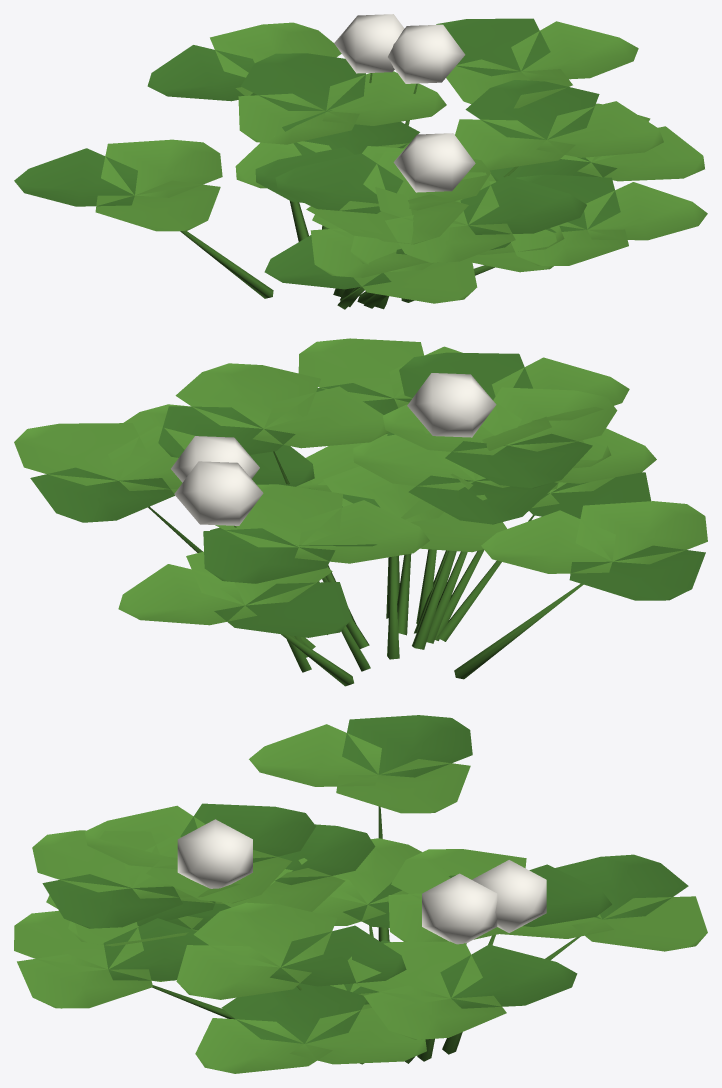
The model's file is grass-clover-b.glb.
The picture shows the model from 3 angles, top to bottom: view 1: azimuth 30°, elevation 25°; view 2: azimuth 150°, elevation 25°; view 3: azimuth 270°, elevation 25°; orthographic projection. The views are drawn at different scales.
Parts seen in each view (by area): view 1: grass-clover-b; view 2: grass-clover-b; view 3: grass-clover-b.
Boxes of the visible parts, box(x1,y1,x2,y2) form: grass-clover-b: box(14, 14, 707, 309); grass-clover-b: box(14, 338, 707, 686); grass-clover-b: box(14, 715, 707, 1073).
Size of the model in its own units: 0.4631 by 0.143 by 0.423.
